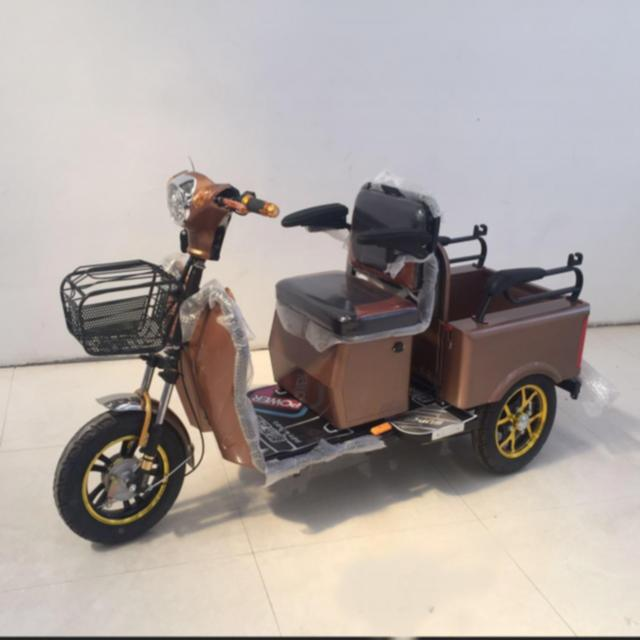tricycle: (45, 156, 592, 544)
